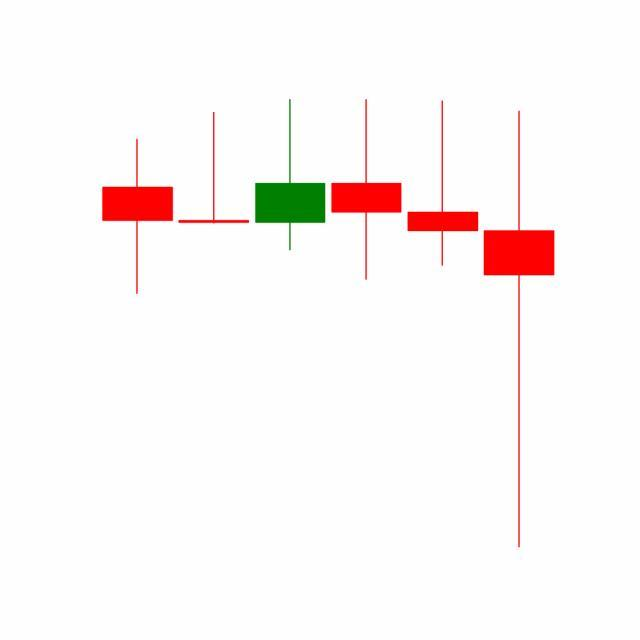Spinning Top: (404, 100, 482, 269)
